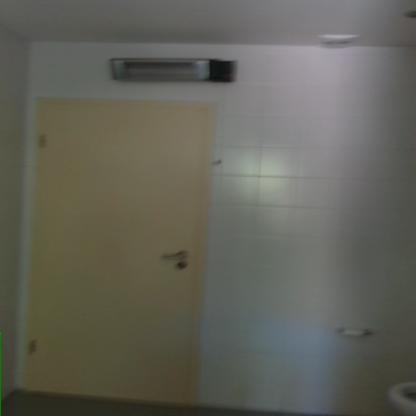closed: (16, 92, 218, 408)
